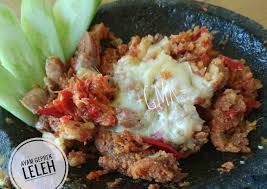ayam_geprek: (45, 37, 245, 176)
